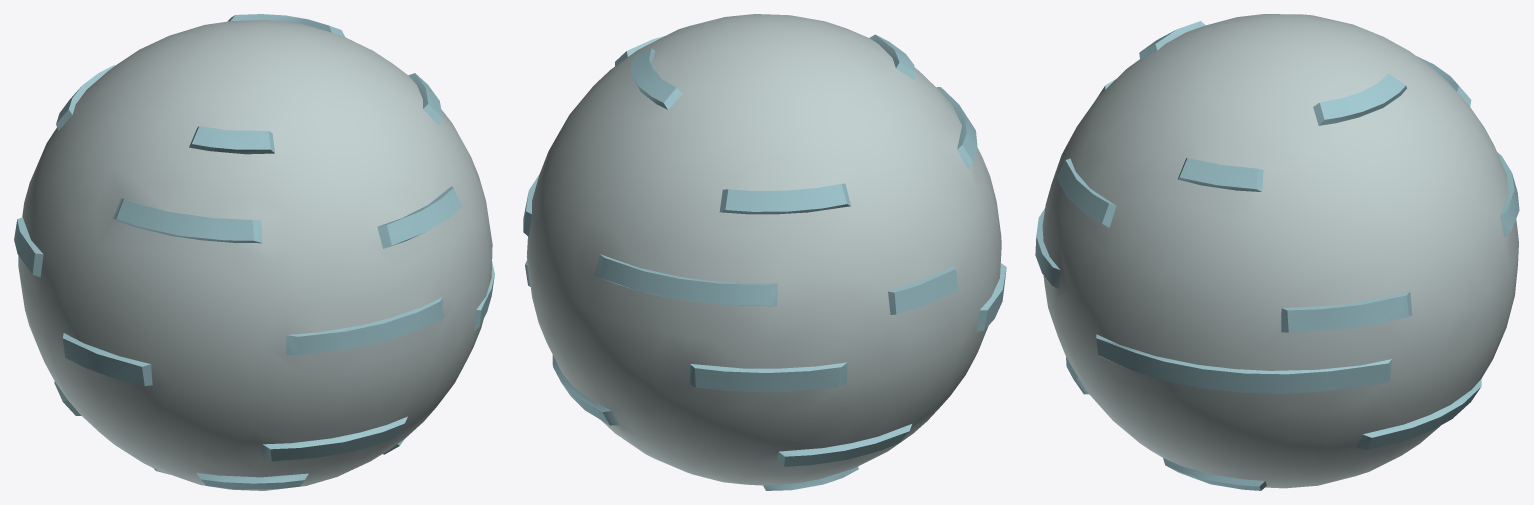
Rendered from planet_toxic.repacked.glb.
The picture shows the model from 3 angles, left to right: view 1: azimuth 30°, elevation 25°; view 2: azimuth 150°, elevation 25°; view 3: azimuth 270°, elevation 25°; orthographic projection.
Visible parts, largest first — view 1: Planet_9; view 2: Planet_9; view 3: Planet_9.
Part boxes in pixels (x1,y1,x2,y2): Planet_9: (14, 14, 494, 490); Planet_9: (523, 14, 1006, 490); Planet_9: (1035, 14, 1519, 490).
Bounding box in the file's own units: 3.82 × 3.75 × 3.81.
1 material, 1 textured.
